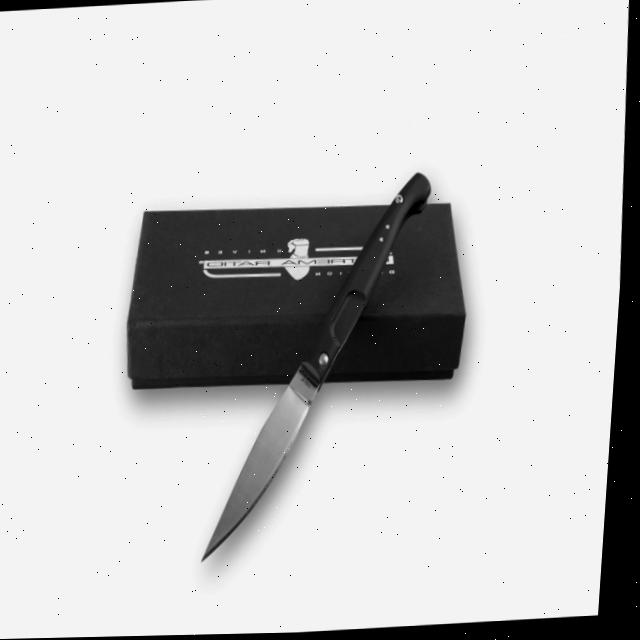knife: (191, 173, 448, 566)
